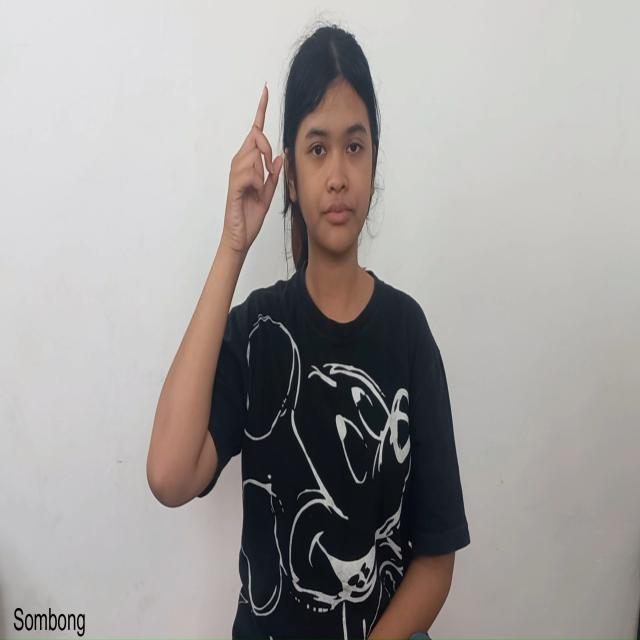Sombong -BISINDO-: (145, 77, 287, 513)
